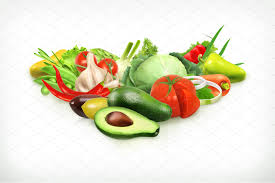aguacate: (90, 103, 168, 144)
